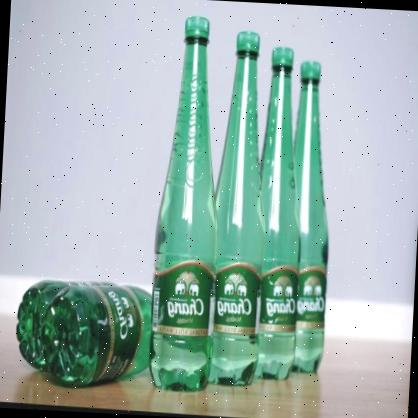bottle: (147, 14, 229, 396), (204, 30, 274, 388), (248, 45, 312, 384)
cap: (270, 44, 294, 74), (235, 31, 260, 56), (184, 16, 210, 40)
label: (152, 256, 215, 340), (213, 264, 262, 342), (259, 266, 299, 340)
